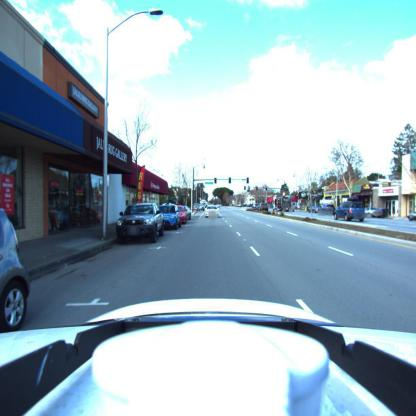car: (116, 202, 166, 244), (335, 199, 368, 220), (158, 204, 181, 230), (176, 206, 190, 225), (366, 207, 386, 217), (204, 205, 219, 217), (407, 212, 416, 222)
